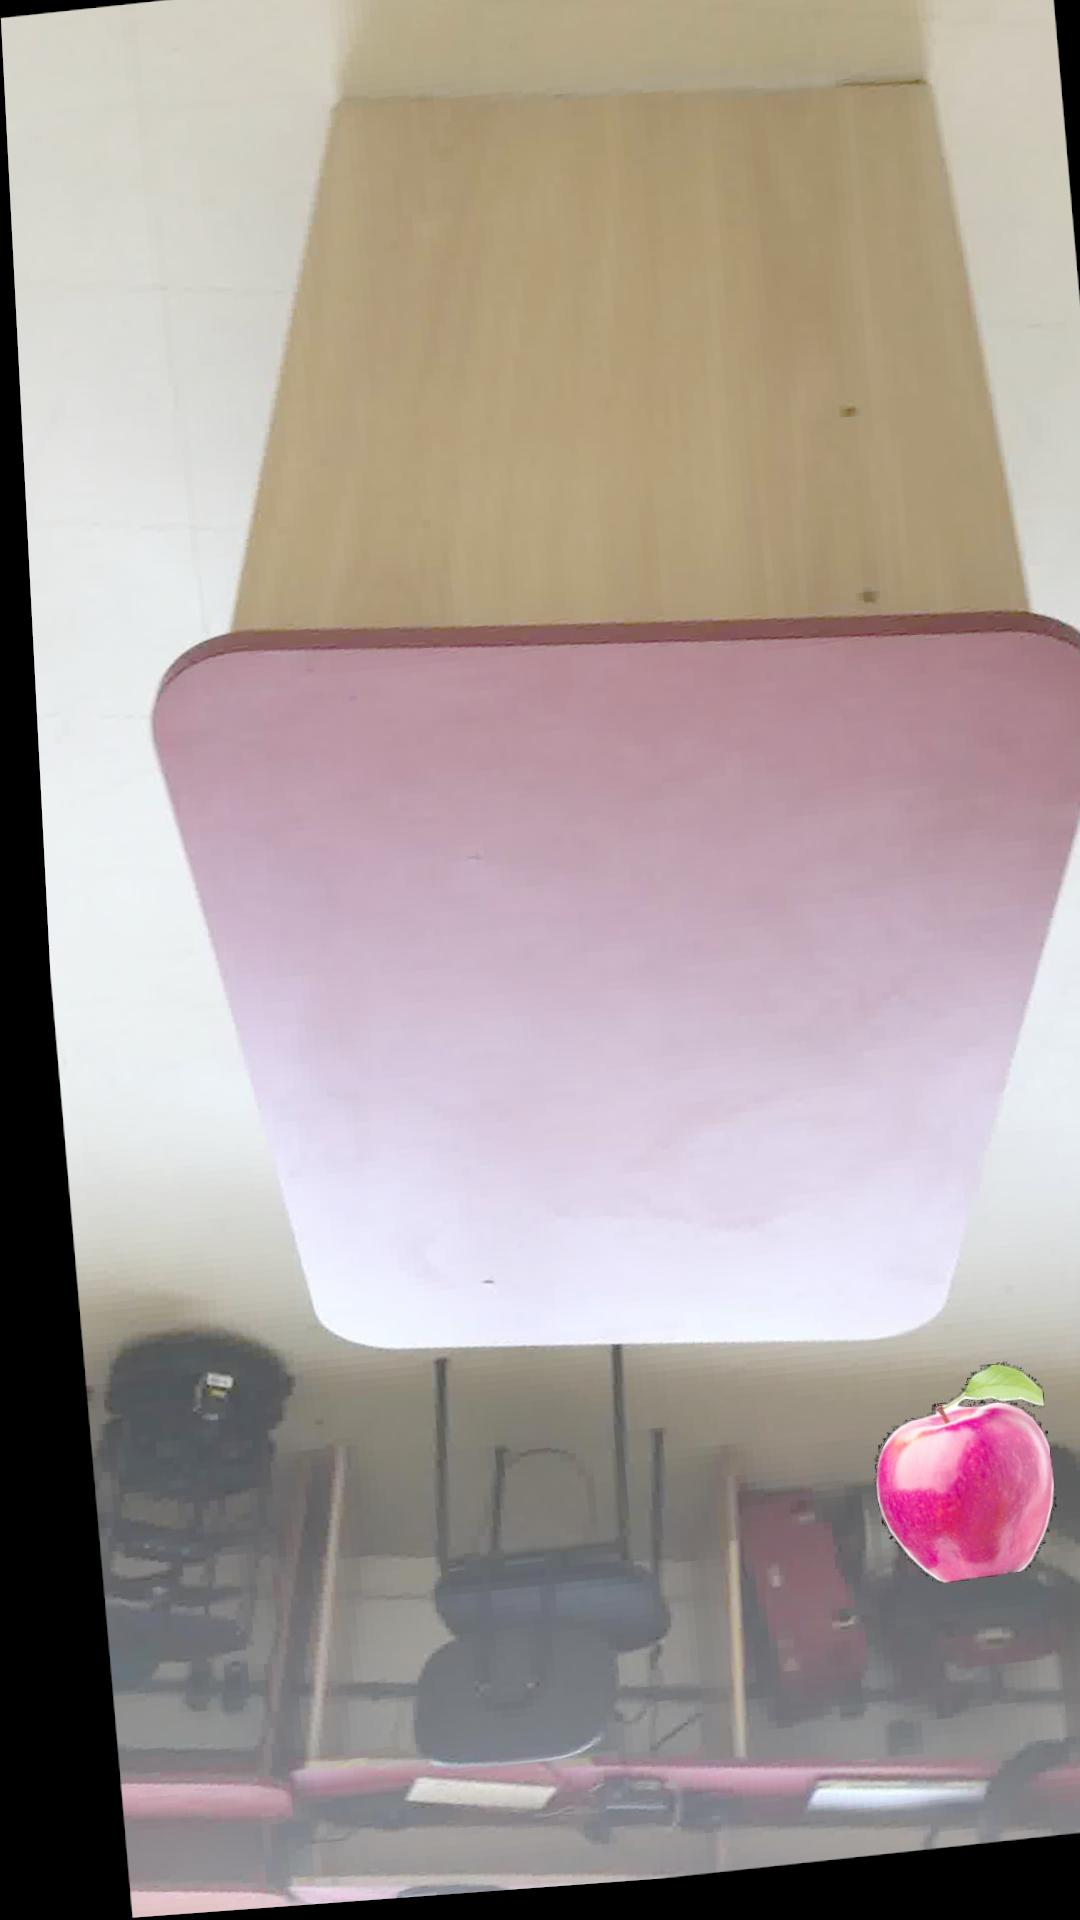apple: (858, 1378, 1040, 1598)
